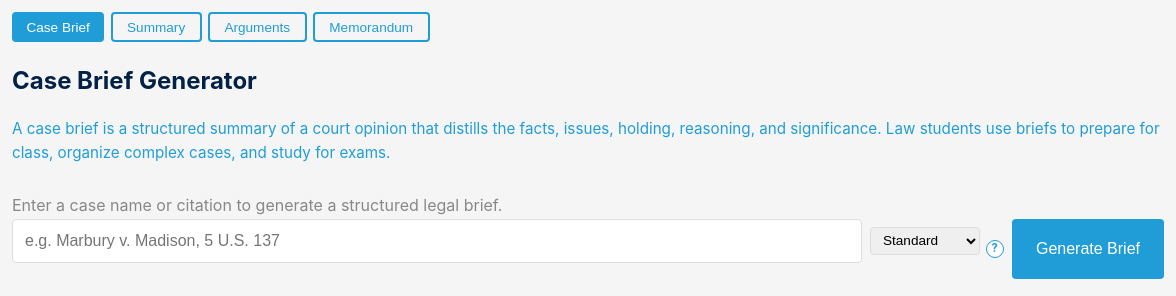
Test: DraftingView › switches to the Arguments tab
Step 1. Click the button "Arguments" → (257, 27), box [208, 12, 306, 42]
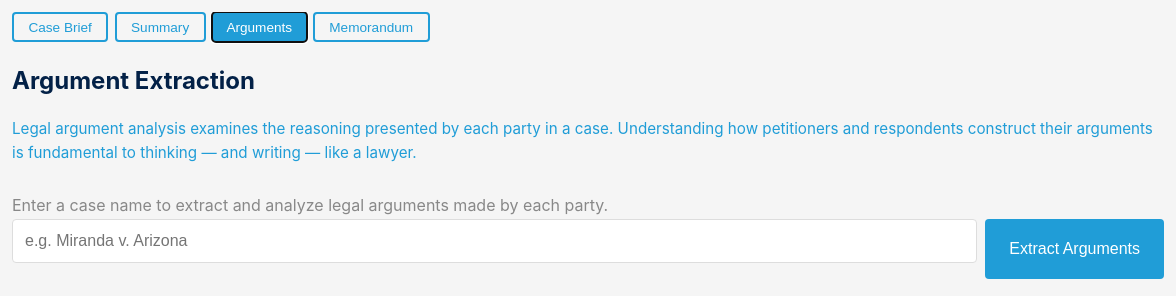
Result: the heading "Argument Extraction" is shown at [12, 66, 255, 95]
